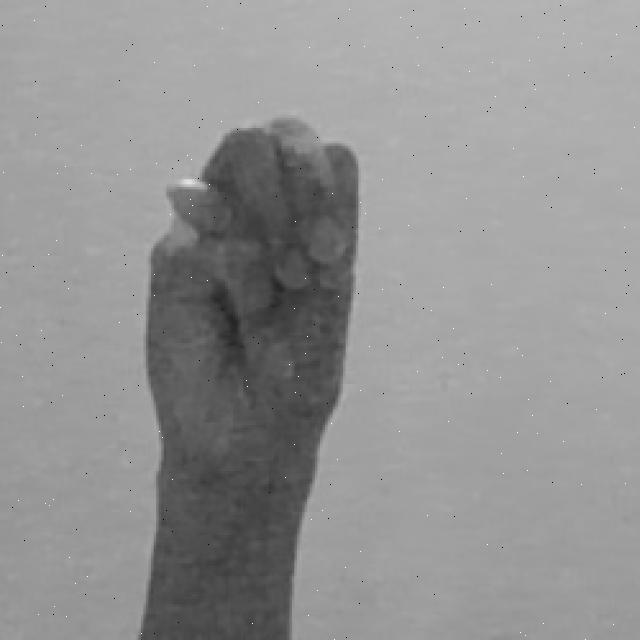M: (120, 110, 372, 640)
